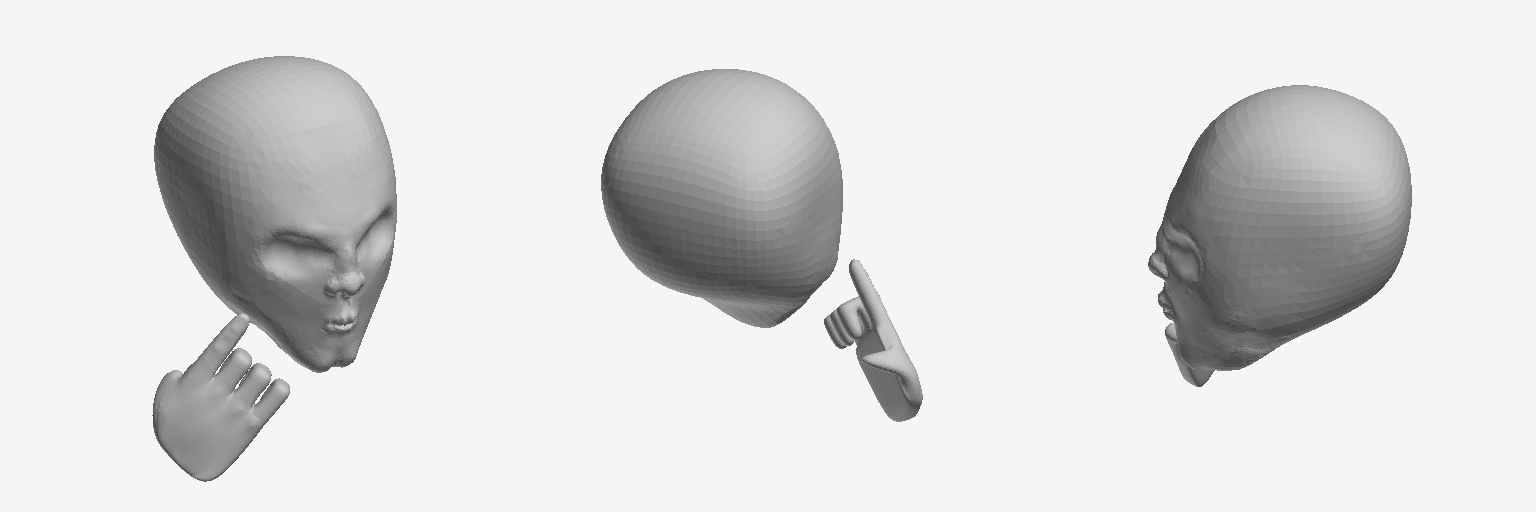
Rendered from mog.obj.
3 views of the same model, side by side, from view 1: azimuth 30°, elevation 25°; view 2: azimuth 150°, elevation 25°; view 3: azimuth 270°, elevation 25° (orthographic).
Visible parts, largest first — view 1: Cube, Cube.001; view 2: Cube, Cube.001; view 3: Cube, Cube.001.
Part boxes in pixels (bbox=[...]): Cube: bbox=[154, 56, 396, 372]; Cube.001: bbox=[152, 313, 289, 481]; Cube: bbox=[601, 69, 842, 327]; Cube.001: bbox=[824, 259, 922, 421]; Cube: bbox=[1148, 85, 1411, 370]; Cube.001: bbox=[1165, 323, 1214, 386].
Bounding box in the file's own units: 1.96 × 2.57 × 1.77.